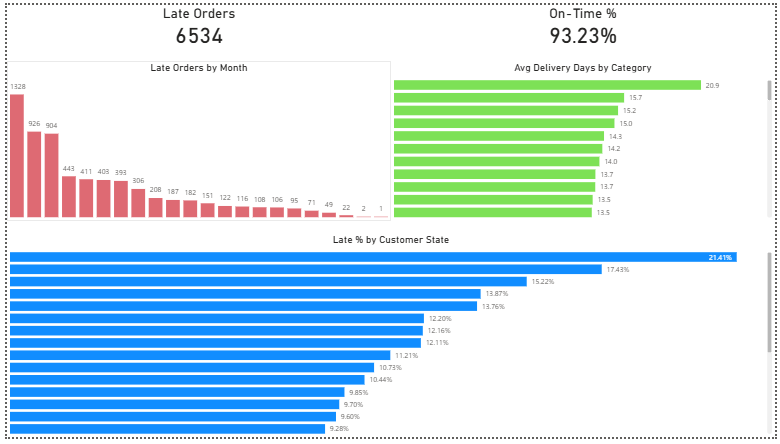

What the dashboard file says about the page in this screenshot:
{"tool":"powerbi","page":{"name":"Delivery & Logistics","canvas":[1280,720],"ordinal":4},"visuals":[{"type":"card","title":"Late Orders","fields":{"Values":["public bi_fact_sales.Late Orders"]},"box":[0,0,640,68.9],"z":0},{"type":"card","title":"On-Time %","fields":{"Values":["public bi_fact_sales.On-time %"]},"box":[640,0,640,68.9],"z":1000},{"type":"clusteredColumnChart","title":"Late Orders by Month","fields":{"Category":["DimDate.Year-Month"],"Y":["public bi_fact_sales.Late Orders"]},"box":[0,93.4,640,266.4],"z":2000},{"type":"barChart","title":"Avg Delivery Days by Category","fields":{"Y":["public bi_fact_sales.Avg Delivery Days"],"Category":["public bi_fact_sales.category"]},"box":[640,93.4,640,266.4],"z":3000},{"type":"barChart","title":"Late % by Customer State","fields":{"Category":["public bi_fact_sales.customer_state"],"Y":["public bi_fact_sales.Late %"]},"box":[0,379.7,1280,339.9],"z":4000}]}

Visuals, with their boxes in screenshot pixels (x1, y1, x2, y2), scaled from the page's 1280x720 canvas onto the 780x444 screenshot:
"Late Orders" card: 0 0 390 42
"On-Time %" card: 390 0 779 42
"Late Orders by Month" clusteredColumnChart: 0 58 390 222
"Avg Delivery Days by Category" barChart: 390 58 779 222
"Late % by Customer State" barChart: 0 234 779 443
